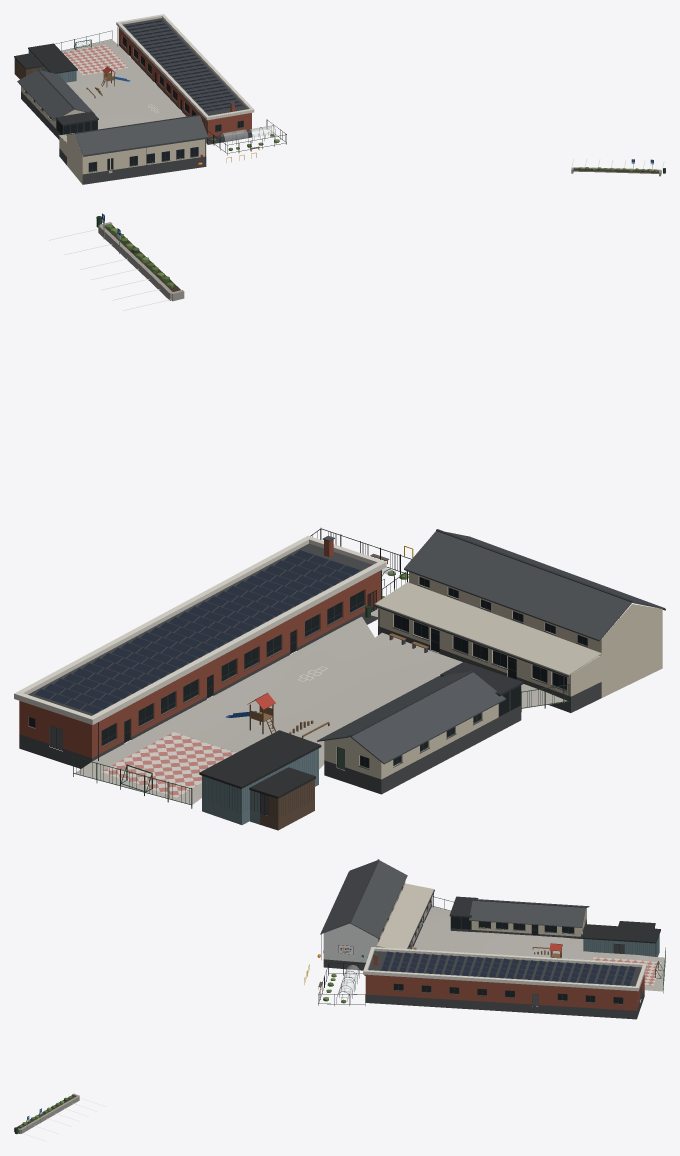
File: school.glb
3 views of the same model, one above another, from view 1: azimuth 30°, elevation 25°; view 2: azimuth 150°, elevation 25°; view 3: azimuth 270°, elevation 25° (orthographic). The views are drawn at different scales.
Parts seen in each view (by area): view 1: school_fittings, school_roof, school_yard, school_render, school_dark, school_brick, school_glass, school_clear, school_stone; view 2: school_fittings, school_yard, school_roof, school_render, school_brick, school_dark, school_glass, school_stone; view 3: school_fittings, school_roof, school_brick, school_yard, school_dark, school_siding, school_glass, school_render, school_stone.
Part boxes in pixels (x1,y1,x2,y2): school_fittings: (14, 14, 665, 173); school_roof: (17, 70, 208, 155); school_yard: (61, 39, 186, 140); school_render: (21, 86, 206, 184); school_dark: (21, 43, 251, 184); school_brick: (118, 28, 251, 137); school_glass: (25, 36, 243, 171); school_clear: (221, 125, 275, 141); school_stone: (571, 167, 661, 176); school_fittings: (14, 213, 665, 830); school_yard: (75, 608, 566, 804); school_roof: (317, 531, 664, 764); school_render: (324, 572, 662, 779); school_brick: (19, 540, 380, 757); school_dark: (19, 536, 601, 794); school_glass: (29, 577, 587, 767); school_stone: (98, 222, 184, 301); school_fittings: (15, 859, 665, 1141); school_roof: (321, 860, 589, 938); school_brick: (365, 956, 644, 1010); school_yard: (412, 906, 664, 991); school_dark: (323, 887, 644, 1019); school_siding: (323, 923, 376, 962); school_glass: (378, 887, 622, 1003); school_render: (377, 881, 586, 949); school_stone: (14, 1093, 79, 1133).
Size of the model in its own units: 94.69 by 8.84 by 104.
